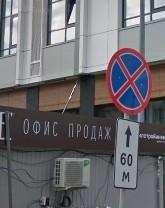No Parking: (106, 47, 154, 117)
